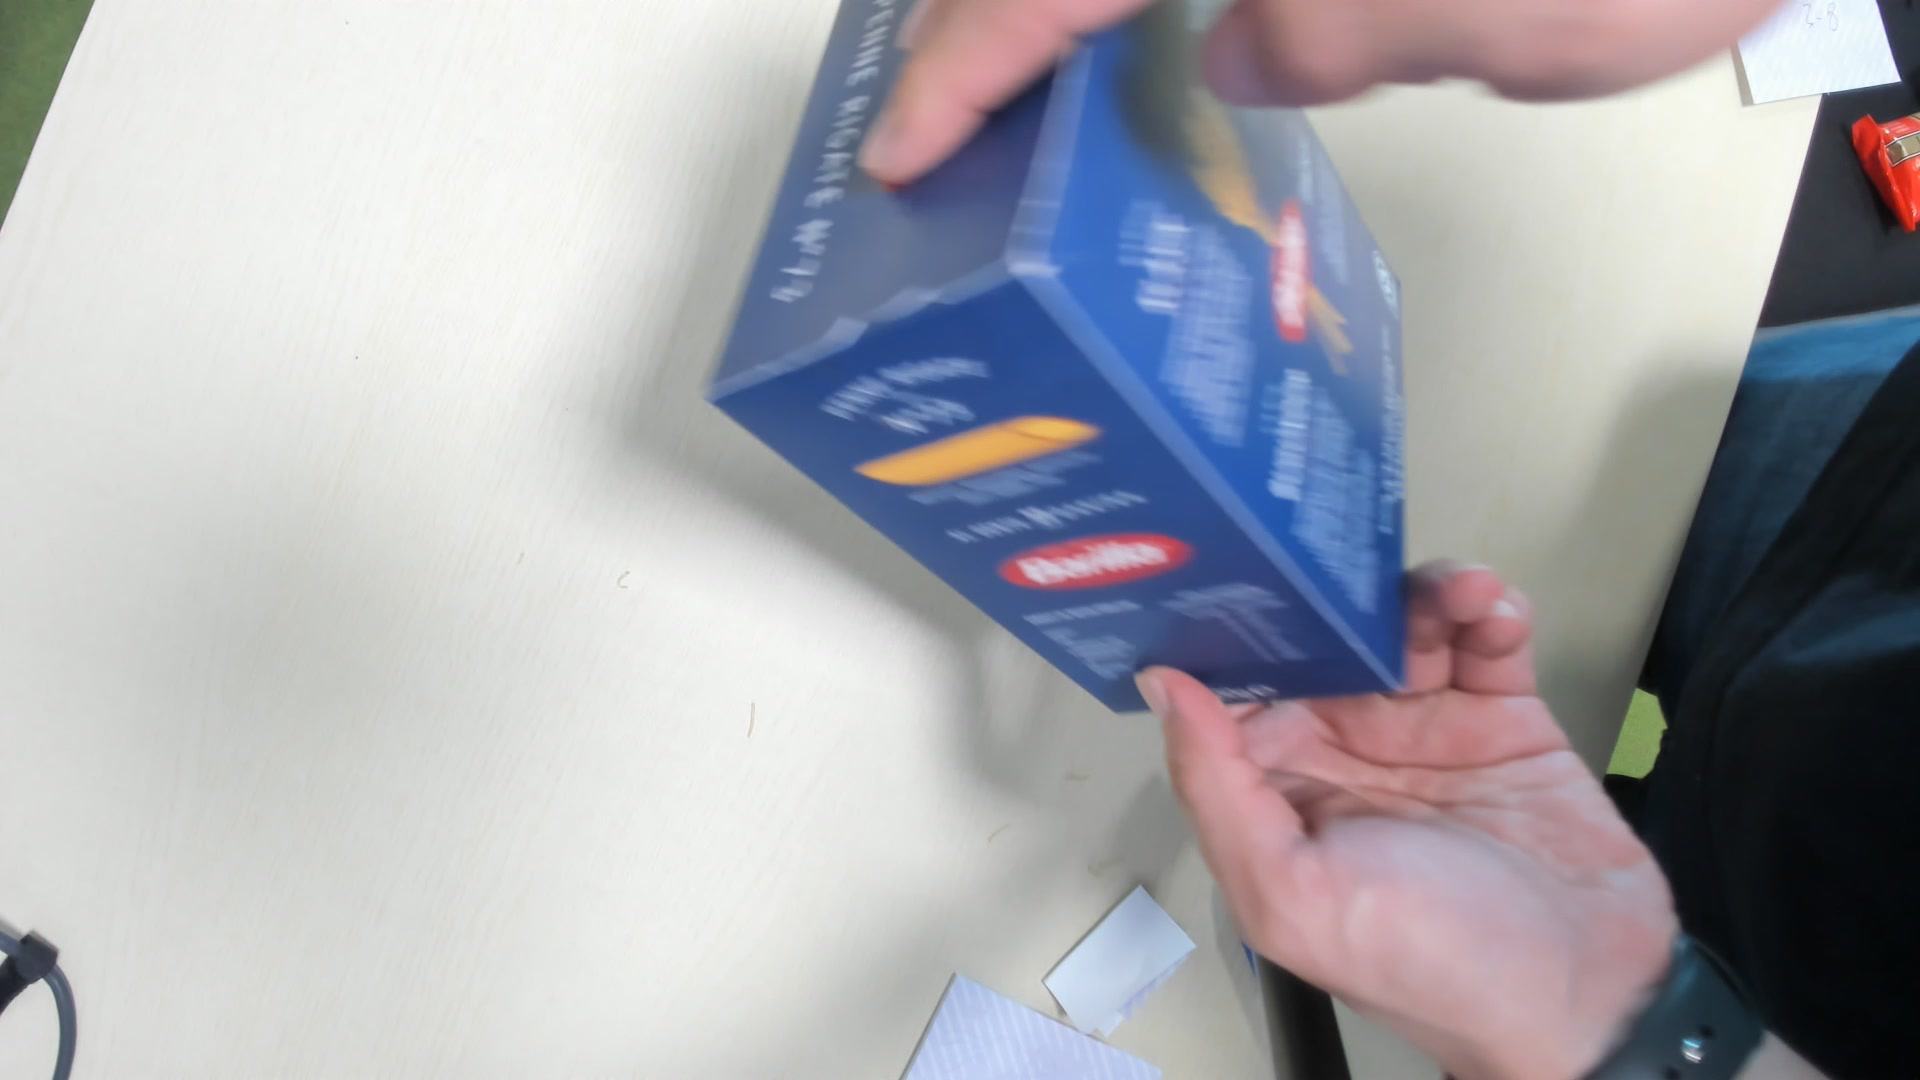Pasta_500-599g_NonHalal_NonHealthy: (702, 8, 1403, 705)
